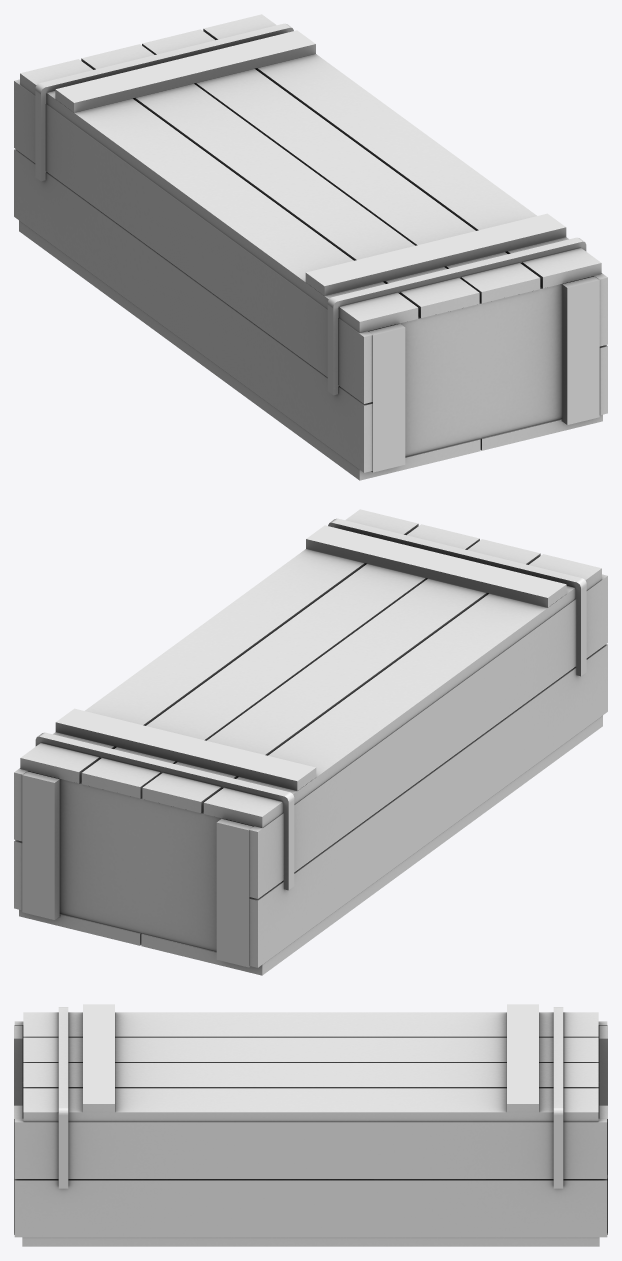
File: crate.obj
3 renders of one model, top to bottom at view 1: azimuth 30°, elevation 25°; view 2: azimuth 150°, elevation 25°; view 3: azimuth 270°, elevation 25°, orthographic. The views are drawn at different scales.
Visible parts, largest first — view 1: Cube.002_Cube.018; view 2: Cube.002_Cube.018; view 3: Cube.002_Cube.018.
Part boxes in pixels (x1,y1,x2,y2): Cube.002_Cube.018: [14, 14, 607, 480]; Cube.002_Cube.018: [14, 509, 607, 975]; Cube.002_Cube.018: [14, 1004, 607, 1246].
Bounding box in the file's own units: 3.09 × 1.96 × 7.41.
